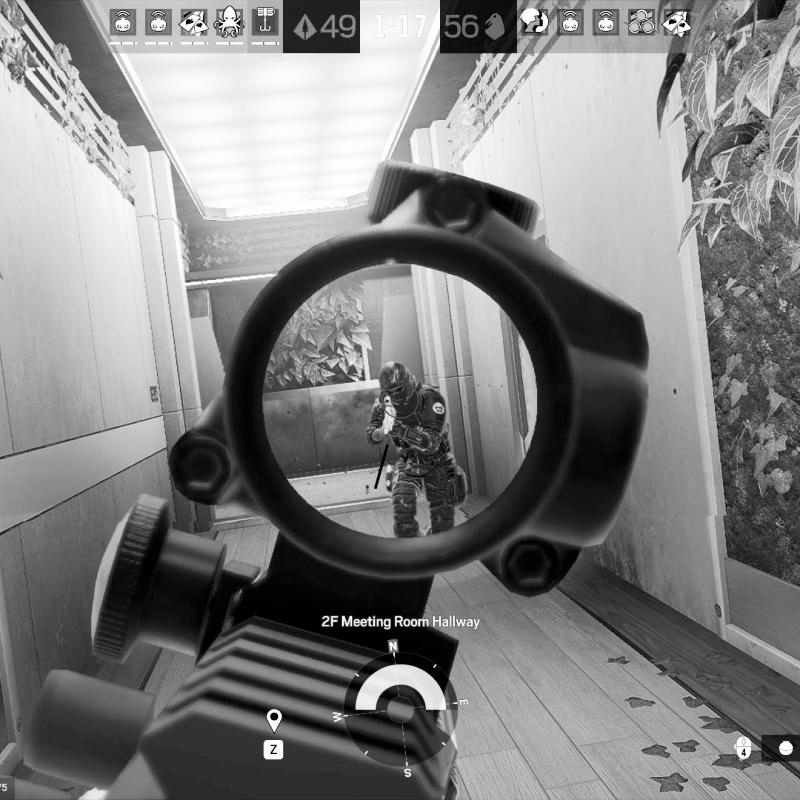Character: (365, 359, 470, 541)
Head: (378, 360, 417, 407)
